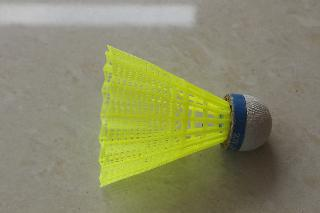shuttlecock: (98, 45, 272, 186)
